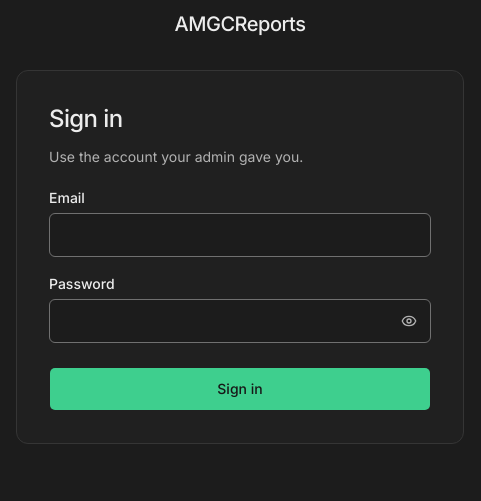
Test: login page › shows the server's 403 message: Your account is under review. Contact your admin.
The image size is (481, 501).
Type "a@b.c" into the field labelled "Email". click: (240, 235)
box: 49,213 -> 431,257
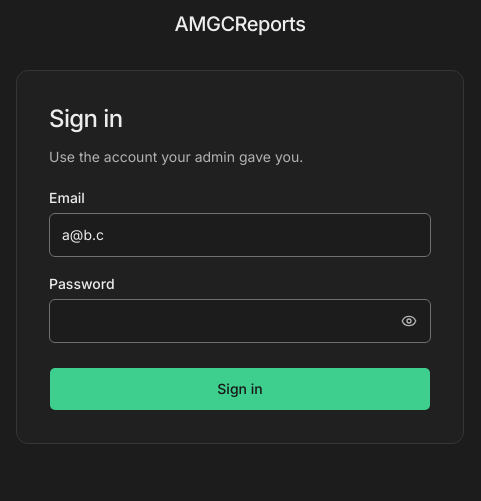
Type "x" into the password field labelled "Password". click: (240, 321)
box: 49,299 -> 431,343
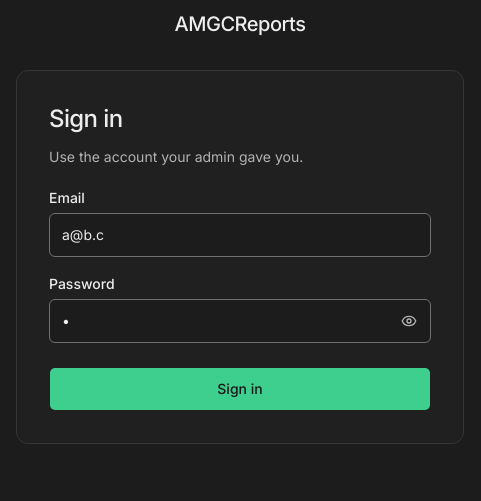
Click the button "Sign in". click: (240, 389)
box: 49,367 -> 431,411
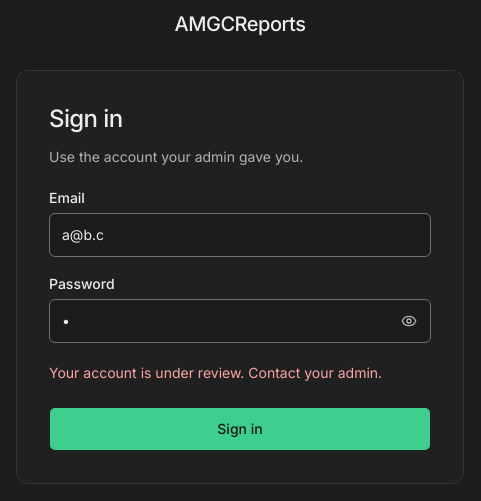
Now the text "Your account is under review. Contact your admin." is shown, box 49,363 -> 431,383
